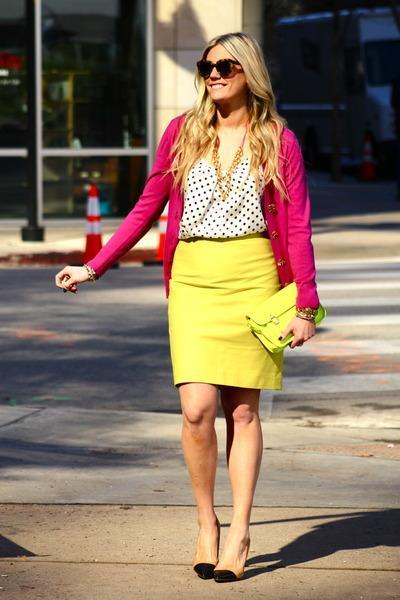bag: (243, 282, 300, 347)
jacket: (84, 114, 328, 333)
shirt: (179, 147, 265, 238)
shoe: (194, 563, 227, 582)
skirt: (168, 233, 309, 389)
sunglass: (197, 46, 244, 80)
